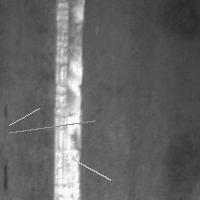scratches: (49, 1, 87, 199), (4, 116, 99, 138), (67, 153, 115, 184), (4, 103, 44, 130)
